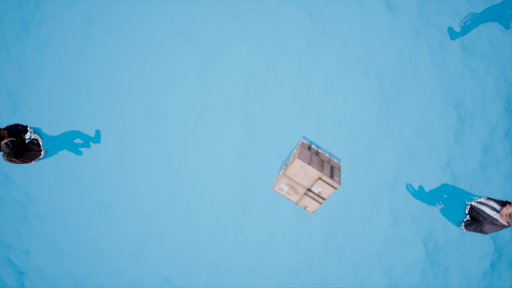person: (405, 180, 512, 234), (4, 121, 94, 162)
